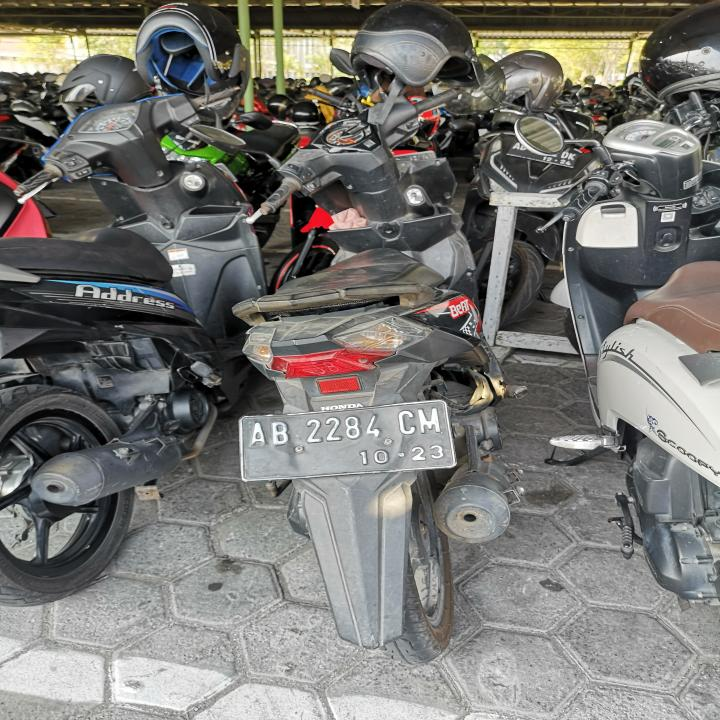plate: (236, 399, 460, 482)
